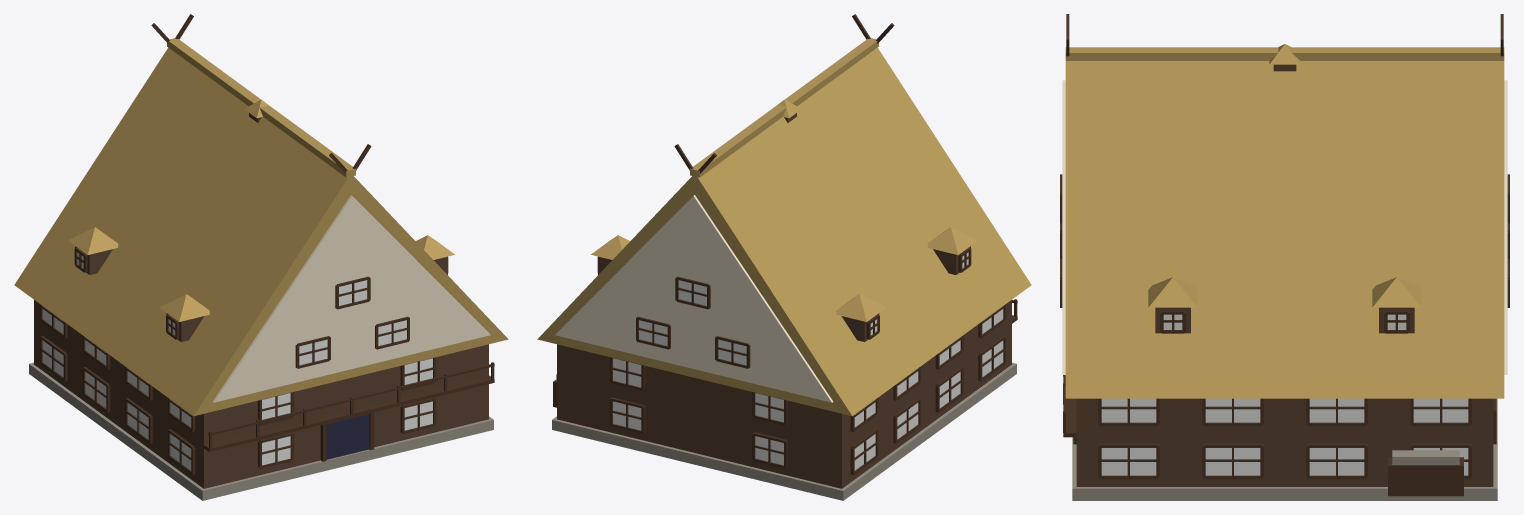
Rendered from house-2x2-3f-gassho-a.glb.
The picture shows the model from 3 angles, left to right: view 1: azimuth 30°, elevation 25°; view 2: azimuth 150°, elevation 25°; view 3: azimuth 270°, elevation 25°; orthographic projection. The views are drawn at different scales.
Visible parts, largest first — view 1: house-2x2-3f-gassho-a; view 2: house-2x2-3f-gassho-a; view 3: house-2x2-3f-gassho-a.
Boxes of the visible parts, <box> form: house-2x2-3f-gassho-a: <box>14,14,508,500</box>; house-2x2-3f-gassho-a: <box>537,14,1031,500</box>; house-2x2-3f-gassho-a: <box>1060,14,1509,500</box>.
Bounding box in the file's own units: 2 × 1.92 × 2.01.
1 material, 1 textured.
